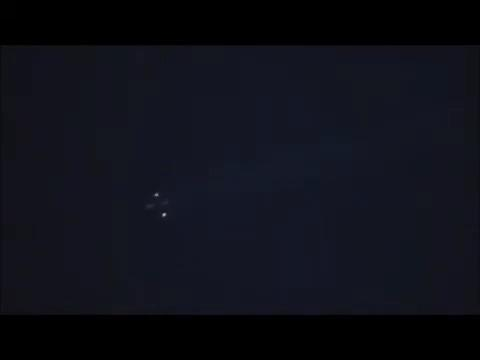Plane: (123, 181, 195, 226)
